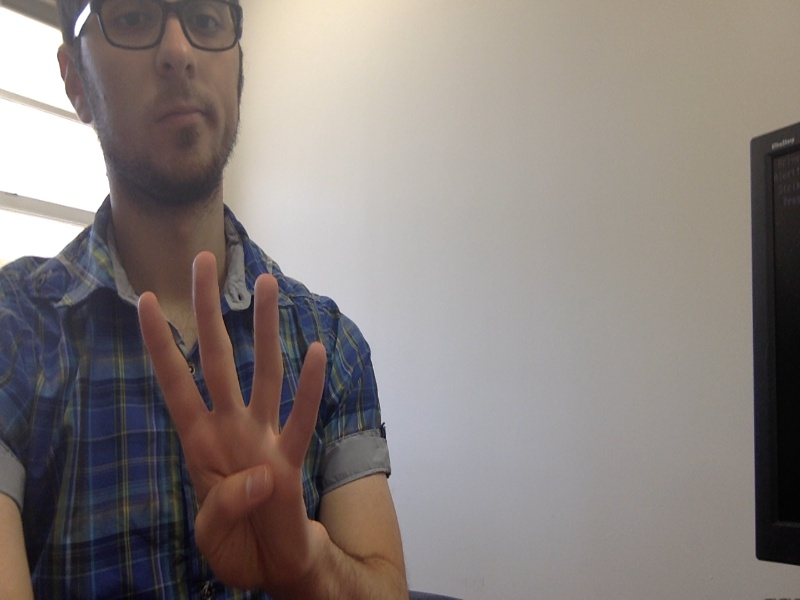4-hand: (132, 253, 332, 591)
